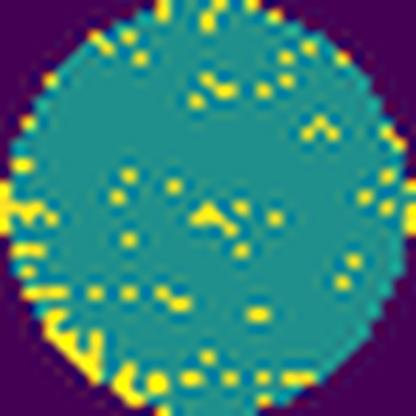Edge-Loc: (43, 305, 112, 385), (0, 180, 64, 235), (110, 354, 155, 411)
